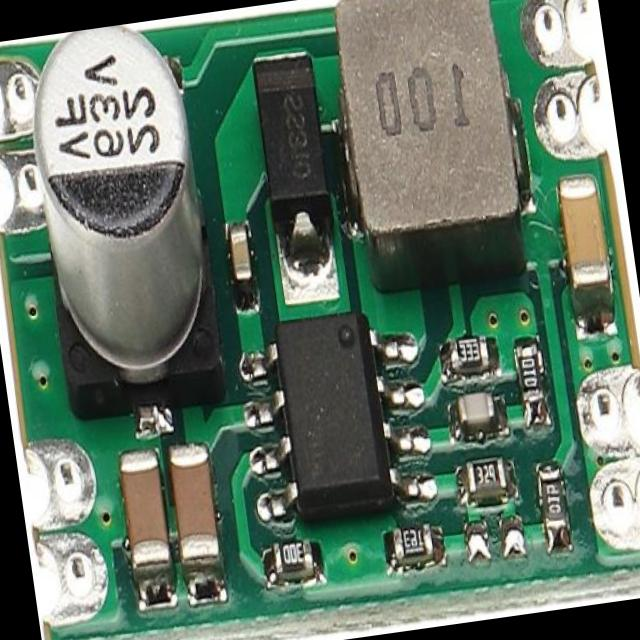IC: (256, 300, 396, 512)
capacitor: (14, 22, 228, 413), (162, 436, 235, 584), (552, 175, 617, 322), (116, 442, 176, 593), (223, 224, 254, 296), (454, 393, 501, 437)
diode: (246, 46, 342, 263)
resistor: (462, 446, 513, 504), (536, 468, 572, 548), (511, 341, 547, 421), (443, 330, 495, 380), (268, 536, 316, 584), (388, 520, 438, 564)
